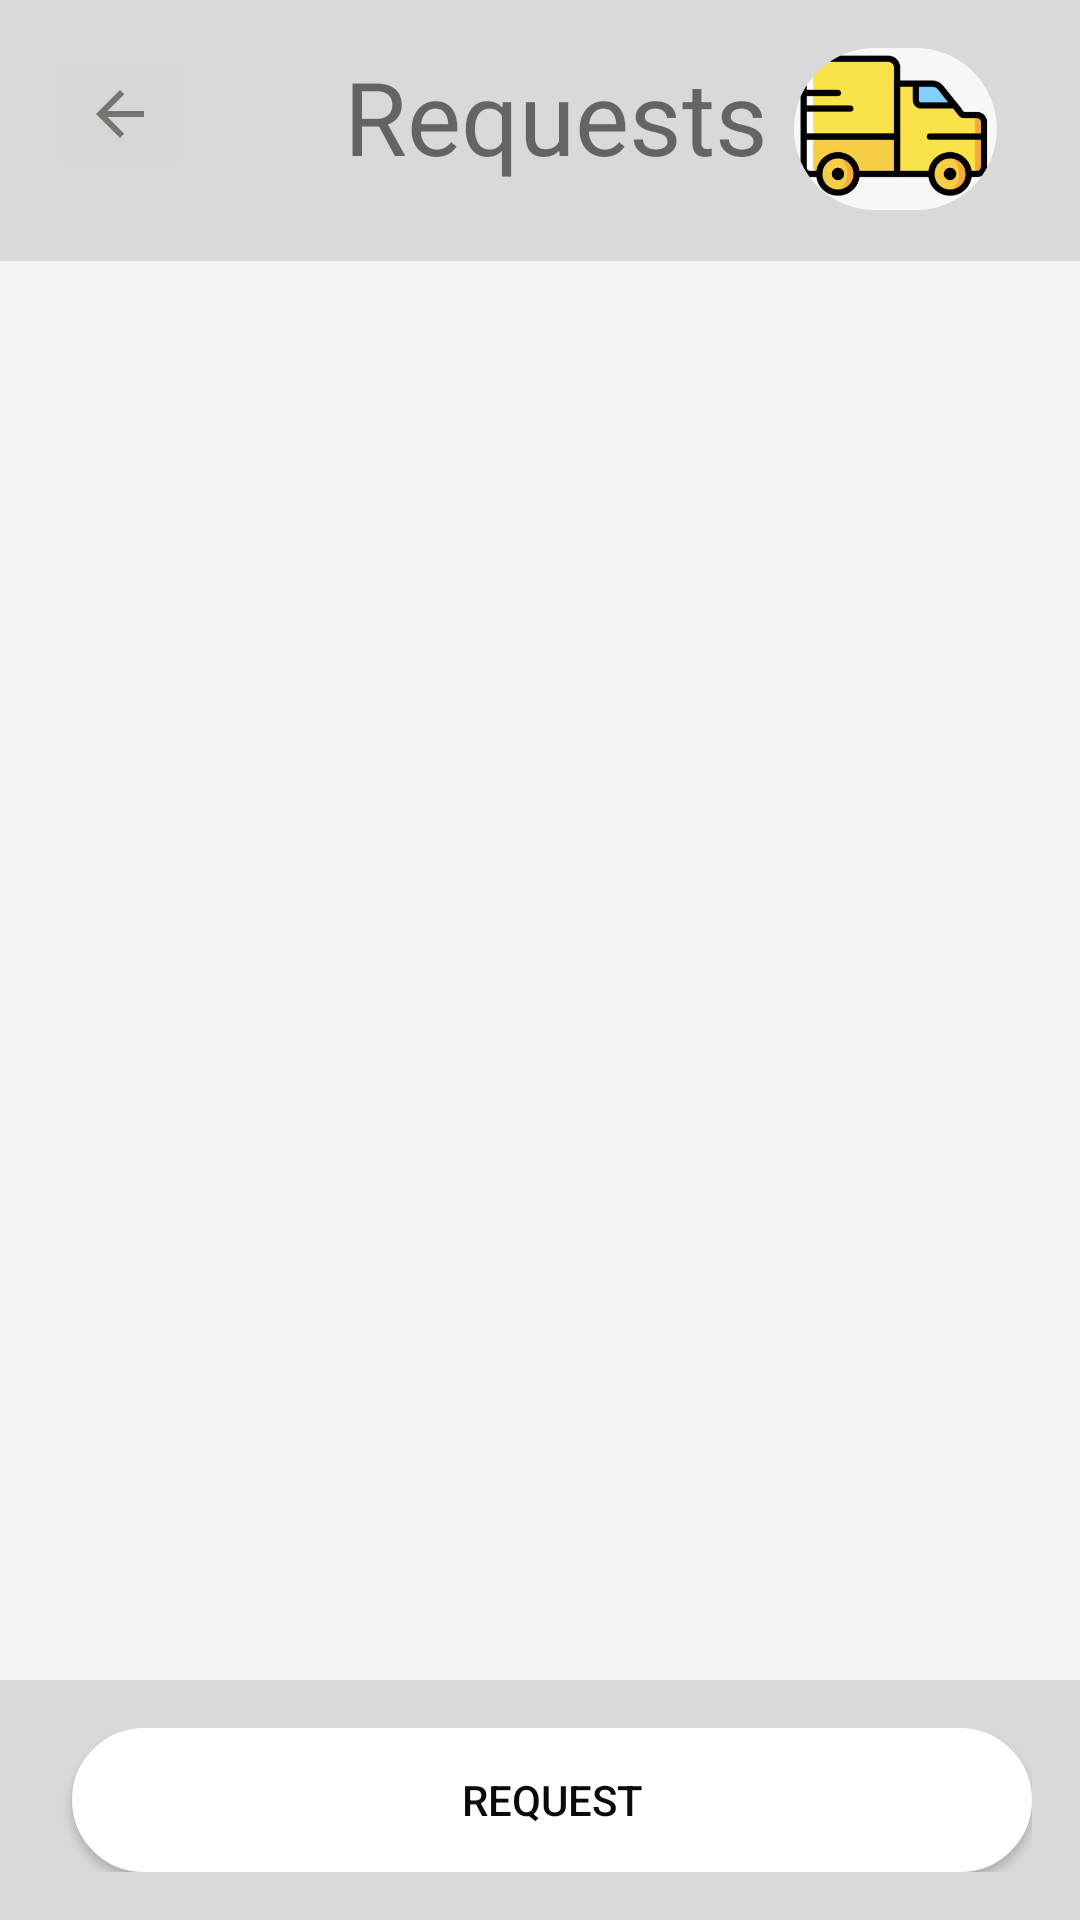

Named icons in this screenshot (1080px×1920px) and their centers, (x=x, y=y):
arrow back: (x=120, y=114)
